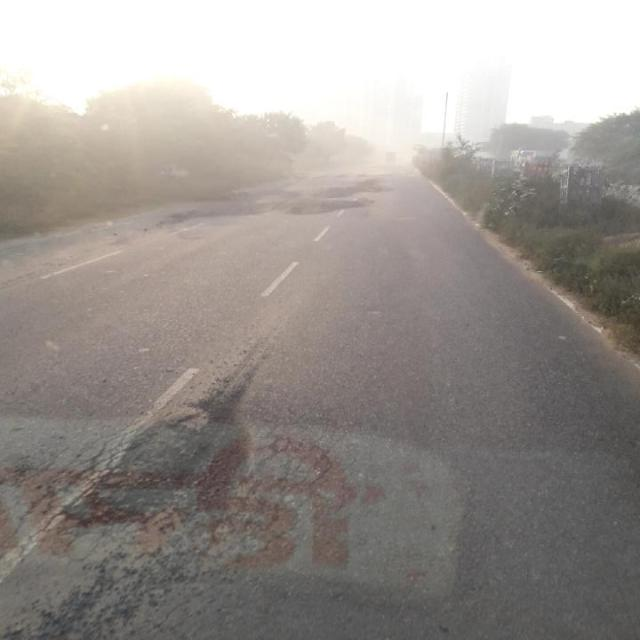D20: (0, 388, 321, 614)
